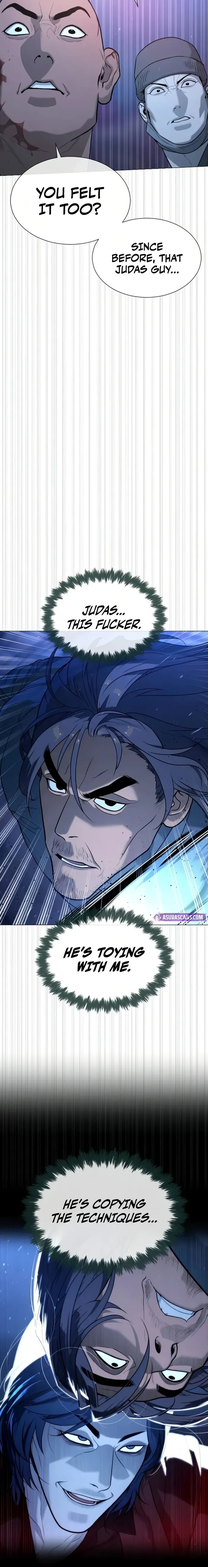bubbles: (8, 140, 203, 298), (34, 906, 177, 1016), (41, 566, 169, 662)
